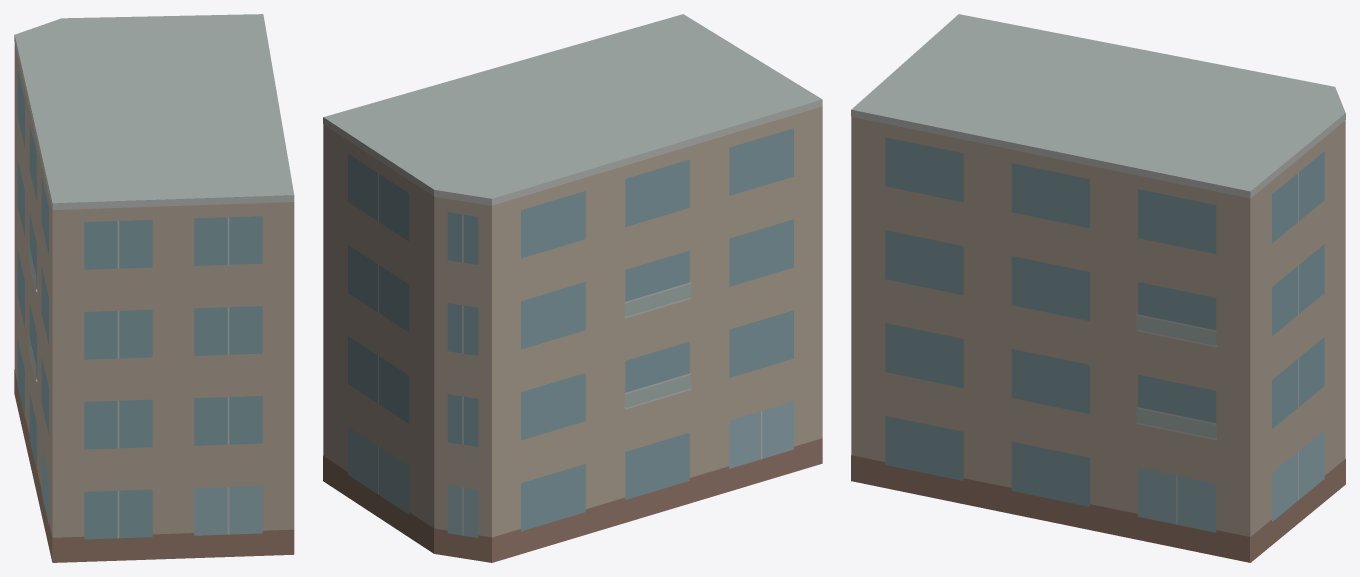
File: survey-upis-32885192.glb
The picture shows the model from 3 angles, left to right: view 1: azimuth 30°, elevation 25°; view 2: azimuth 150°, elevation 25°; view 3: azimuth 270°, elevation 25°; orthographic projection. The views are drawn at different scales.
Parts seen in each view (by area): view 1: survey-upis-32885192.tmp; view 2: survey-upis-32885192.tmp; view 3: survey-upis-32885192.tmp.
Boxes of the visible parts, <box> form: survey-upis-32885192.tmp: <box>14,14,294,562</box>; survey-upis-32885192.tmp: <box>323,14,822,562</box>; survey-upis-32885192.tmp: <box>851,14,1345,562</box>.
Bounding box in the file's own units: 13.13 × 12.8 × 15.46.
